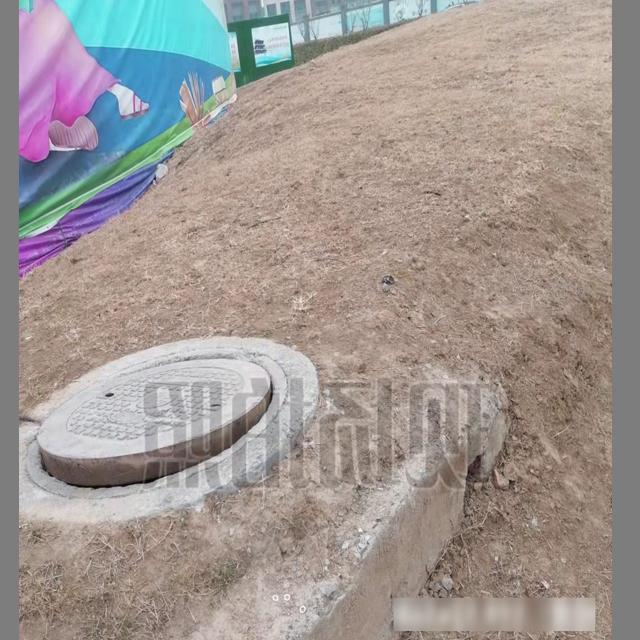uncovered: (25, 351, 293, 501)
